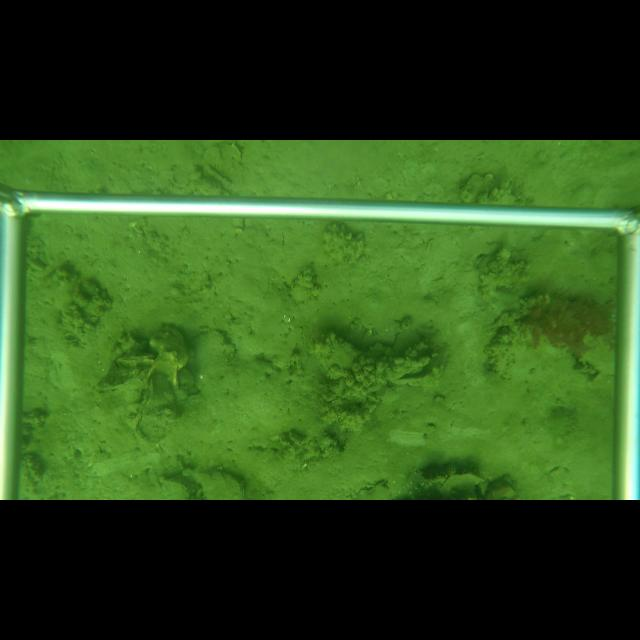Oyster-Closed: (128, 351, 180, 454), (183, 469, 247, 498), (438, 473, 485, 492), (113, 352, 162, 370)
Oyster-Open: (385, 349, 447, 390)
